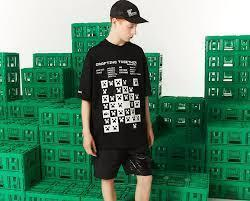Tshirt: (78, 38, 154, 150)
short: (89, 142, 157, 180)
